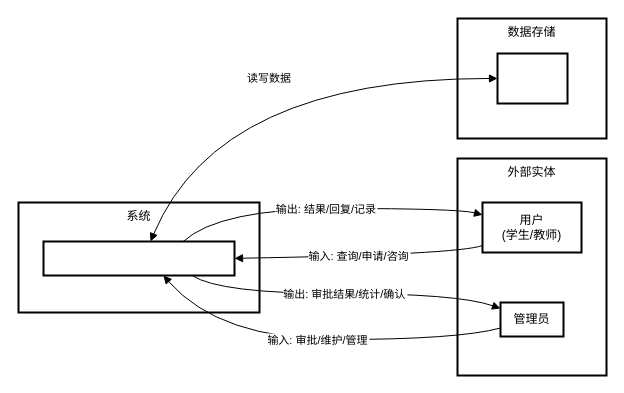
The diagram is 624 pixels wide and 393 high, and some of its shapes have lost their labels. The shapes that lost their labels are listed below. From the top down, each one's centre as x and y in pixels, then its label:
pixel 532 78: (数据库 MySQL)
pixel 138 258: 高校实验室设备管理系统
